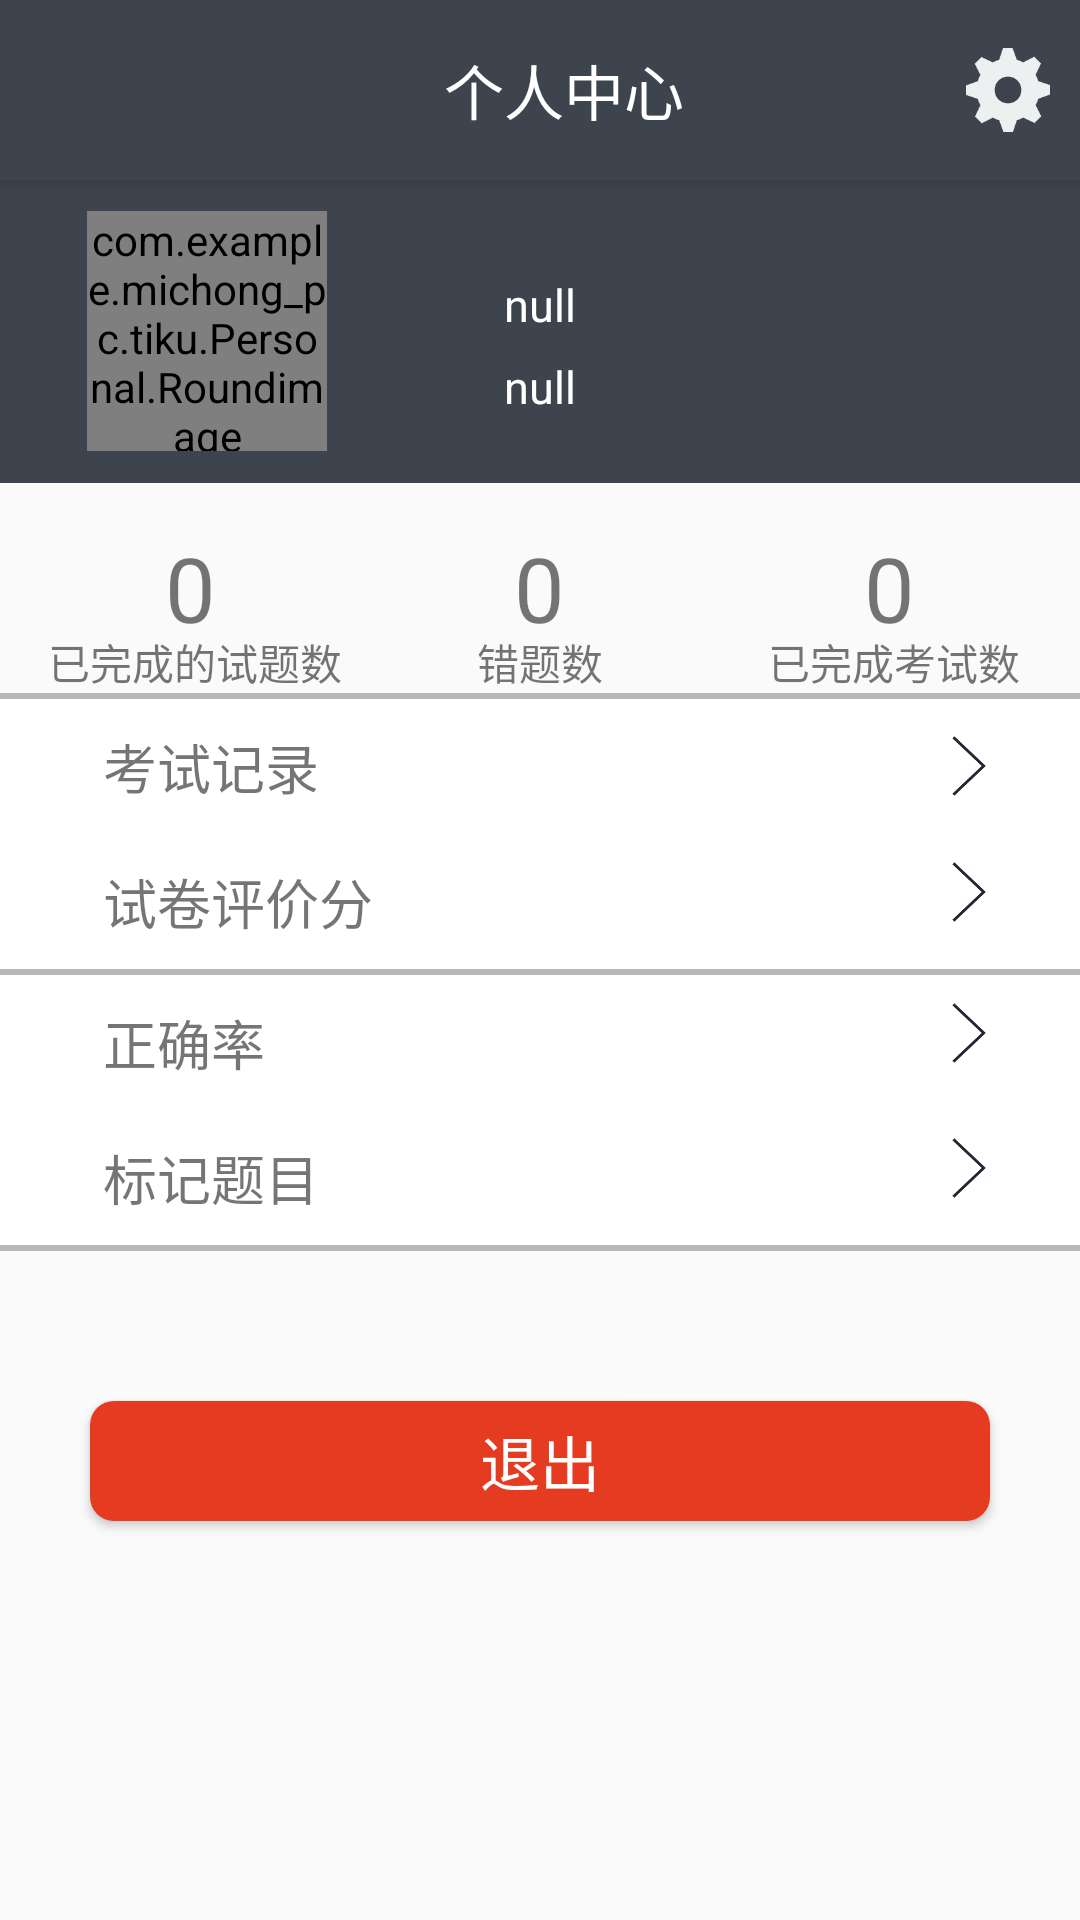

Screen size 1080x1920. Icon name, then its center in pixels as (x=x, y=y):
list arrow: (x=969, y=766), (x=969, y=892), (x=969, y=1033), (x=969, y=1168)
setting: (x=1008, y=90)
